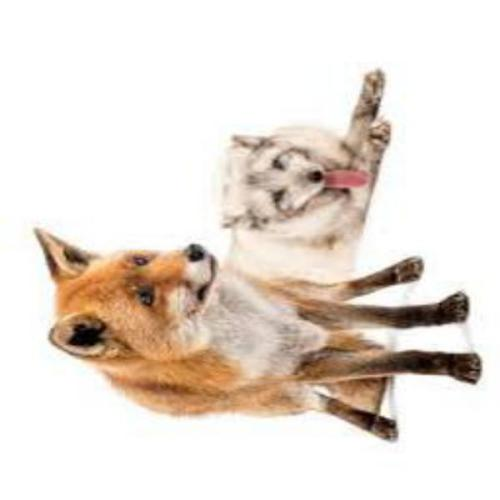arctic_fox-endangered: (29, 225, 482, 442), (211, 65, 392, 289)
